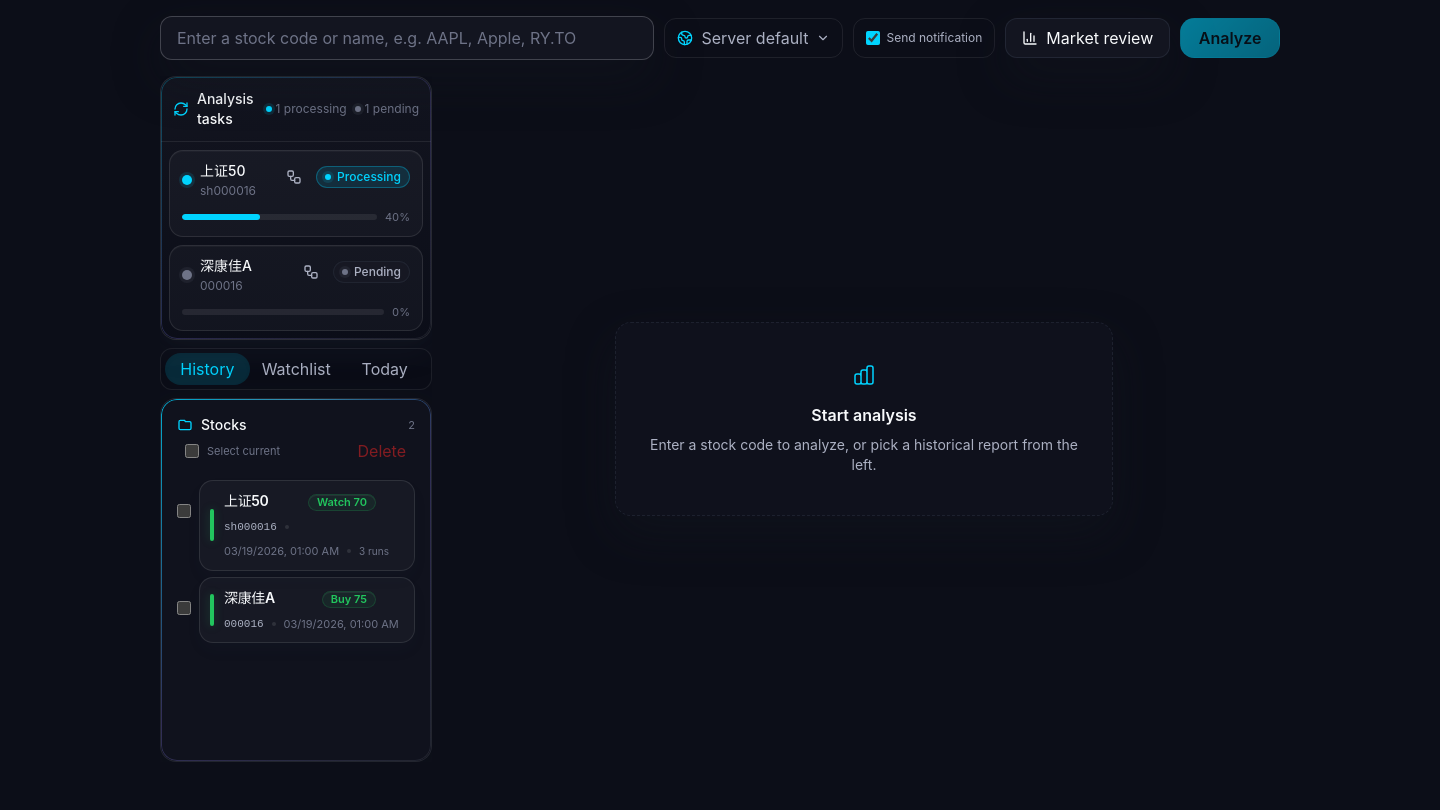
Test: HomePage › keeps index and same-code stock watchlist rows independent when stock-bar and active tasks coexist (PR #2312)
Click the button "Watchlist". click: (296, 369)
box: [254,353,338,385]
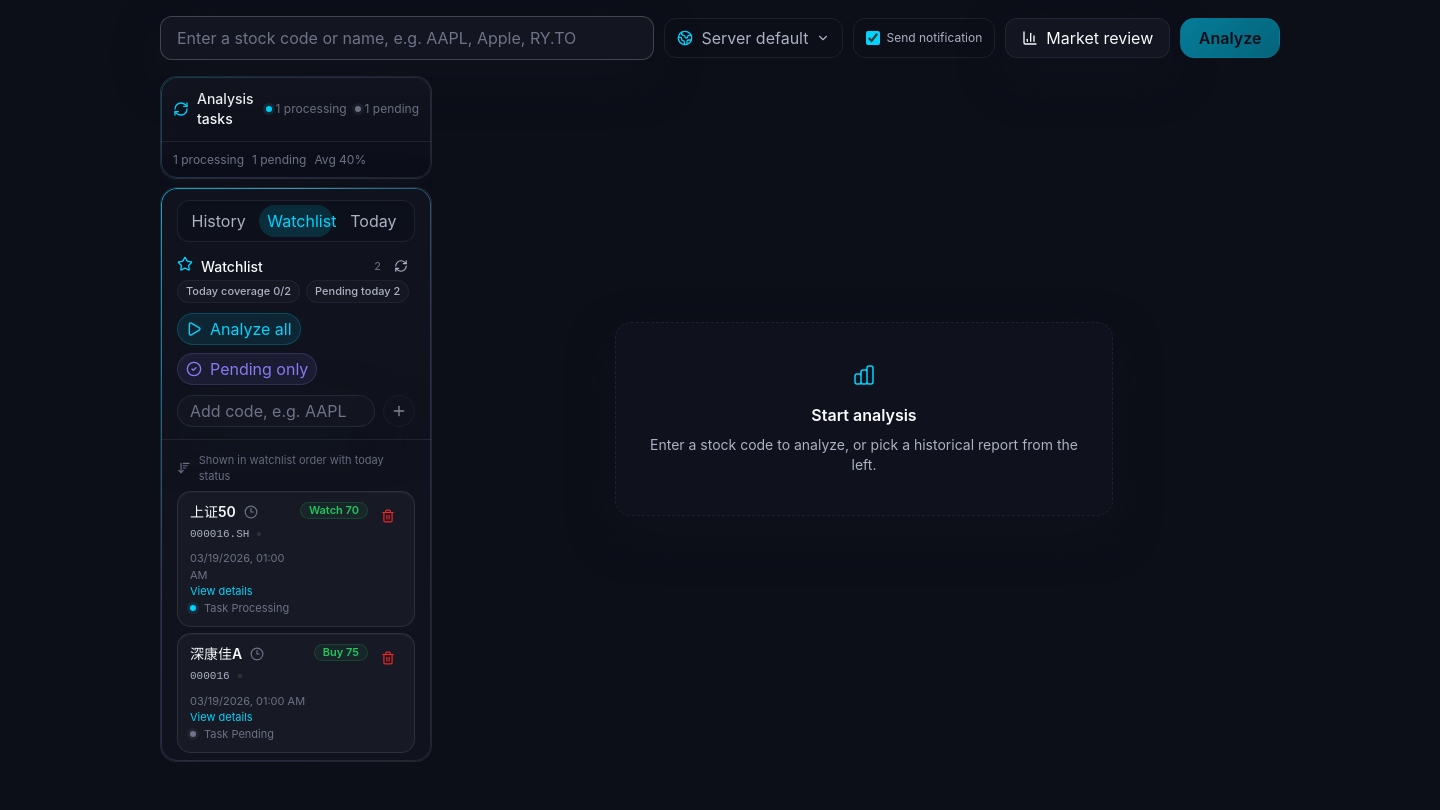
Now the element with test id "watchlist-row-000016.SH" shows "上证50", box [190,502,292,616]
Now the element with test id "watchlist-row-000016.SH" shows "Task Processing", box [190,502,292,616]
Now the element with test id "watchlist-row-000016" shows "深康佳A", box [190,644,306,742]
